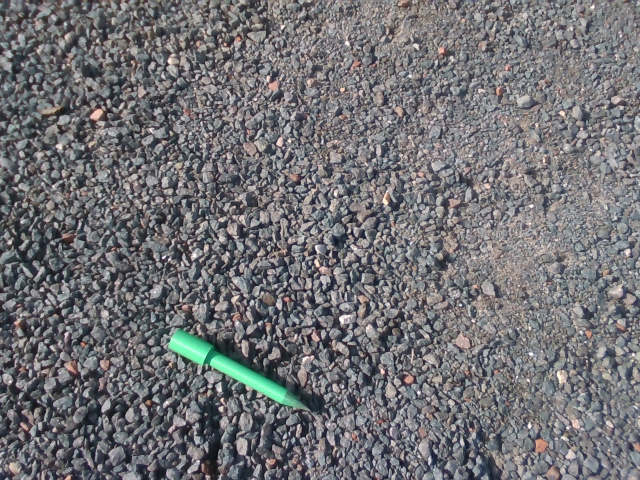Probe: (165, 325, 314, 417)
